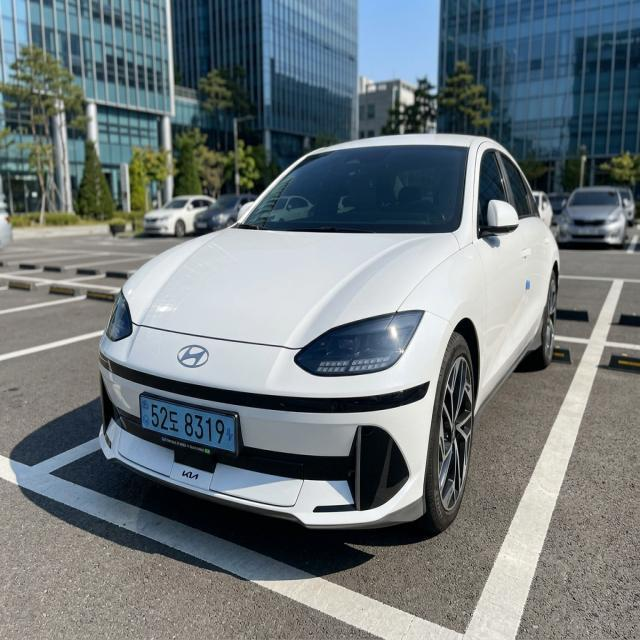car: (125, 367, 260, 471)
carev: (223, 412, 239, 456), (137, 393, 152, 434)
